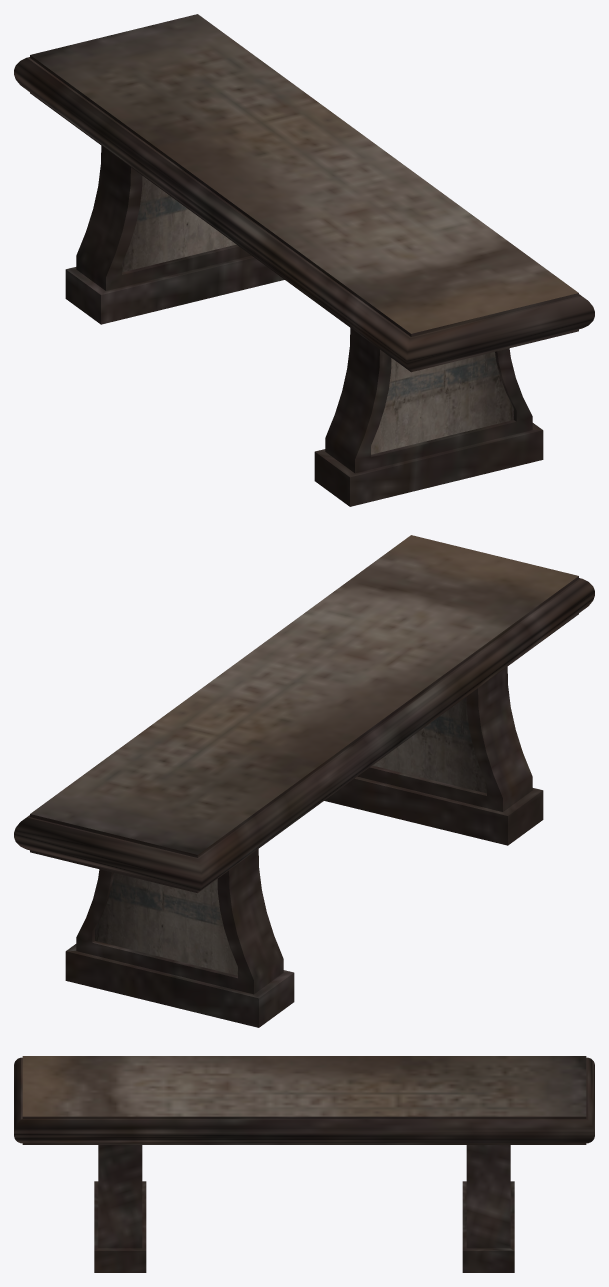
The model's file is Bench.fbx.
3 views of the same model, one above another, from view 1: azimuth 30°, elevation 25°; view 2: azimuth 150°, elevation 25°; view 3: azimuth 270°, elevation 25° (orthographic). The views are drawn at different scales.
Parts seen in each view (by area): view 1: BenchBrokenDirty_BenchDirtyBroken_0; view 2: BenchBrokenDirty_BenchDirtyBroken_0; view 3: BenchBrokenDirty_BenchDirtyBroken_0.
Boxes of the visible parts, x1,y1,x2,y2 form: BenchBrokenDirty_BenchDirtyBroken_0: (14,14,594,506); BenchBrokenDirty_BenchDirtyBroken_0: (14,535,594,1027); BenchBrokenDirty_BenchDirtyBroken_0: (14,1056,594,1272).
Size of the model in its own units: 90.4 by 91.83 by 318.
